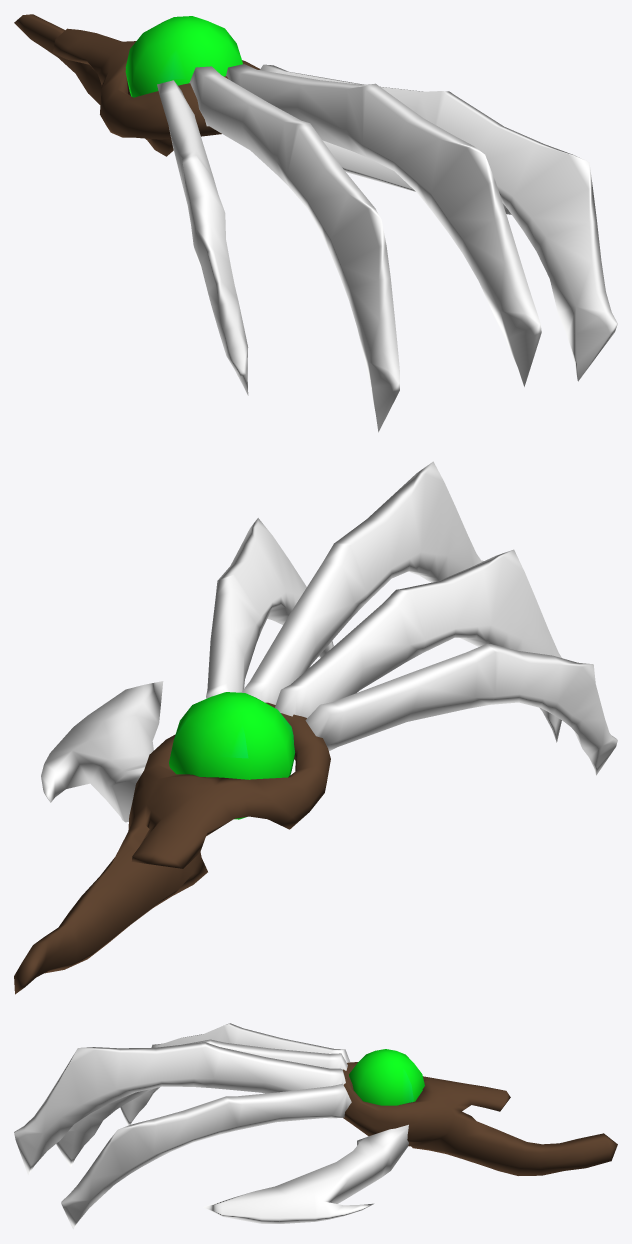
Rendered from demon_claw.fbx.
3 views of the same model, one above another, from view 1: azimuth 30°, elevation 25°; view 2: azimuth 150°, elevation 25°; view 3: azimuth 270°, elevation 25° (orthographic). The views are drawn at different scales.
Parts seen in each view (by area): view 1: demon_claw; view 2: demon_claw; view 3: demon_claw.
Part boxes in pixels (x1,y1,x2,y2): demon_claw: (14, 14, 617, 432); demon_claw: (14, 461, 617, 994); demon_claw: (14, 1023, 617, 1229).
Bounding box in the file's own units: 2.87 × 1.7 × 6.04.
Materials: 1 (1 with a texture image).
